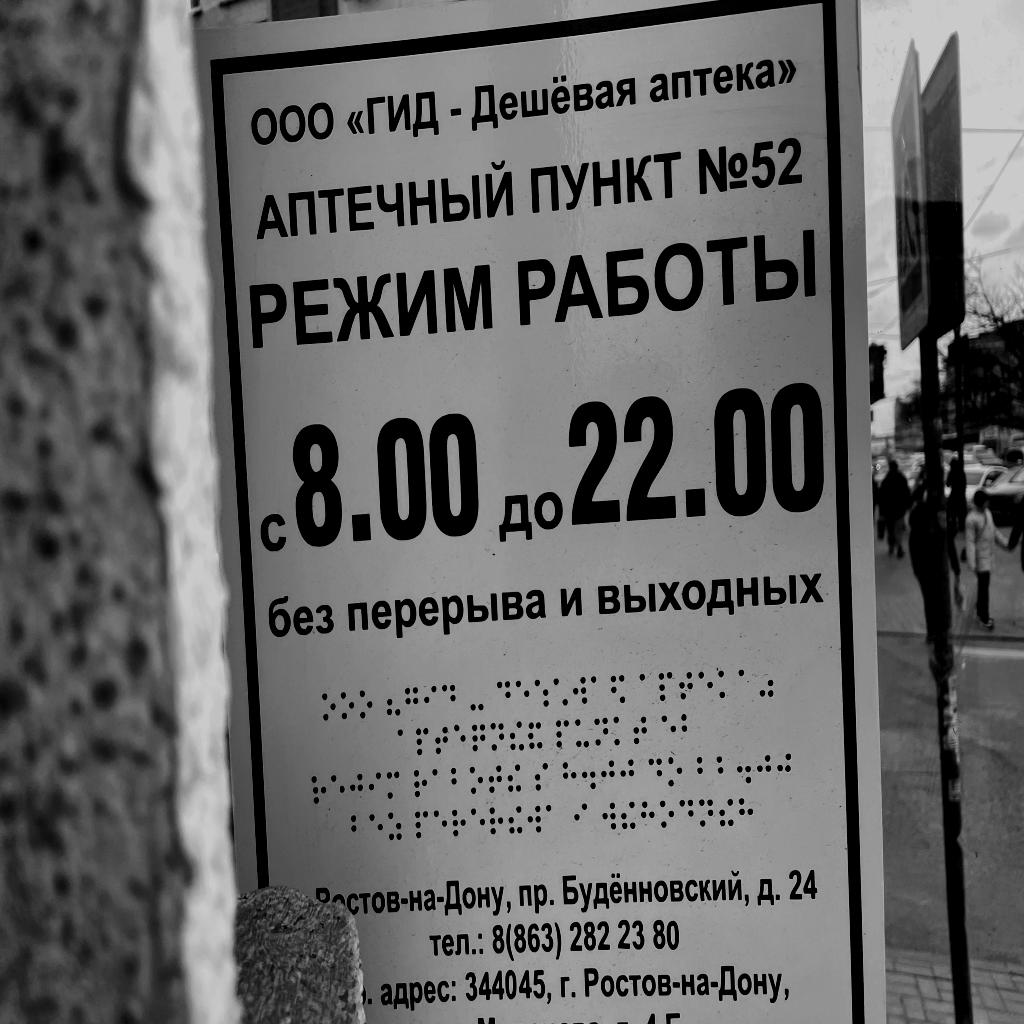_n: (594, 717, 609, 746), (490, 722, 504, 752), (699, 799, 713, 827)
_y: (574, 719, 590, 749)
a: (590, 675, 605, 703), (738, 668, 752, 698), (432, 768, 446, 797), (639, 673, 653, 701), (397, 728, 410, 755), (546, 804, 559, 831)
b: (350, 815, 365, 843), (451, 767, 465, 795)
ch: (471, 723, 486, 752)
d: (648, 757, 663, 787), (496, 679, 511, 708), (679, 799, 694, 828), (442, 683, 456, 713)
defis: (470, 683, 484, 711)
e: (470, 807, 486, 836), (698, 670, 713, 700), (433, 809, 448, 838), (331, 774, 345, 804), (515, 680, 530, 707), (369, 814, 383, 842), (454, 723, 466, 752)
g: (405, 686, 419, 715)
gh: (350, 773, 363, 802)
i: (423, 685, 437, 713), (369, 771, 382, 801), (574, 803, 587, 830)
iKratkoe: (528, 721, 543, 750)
ii: (510, 721, 525, 751), (508, 805, 523, 834), (621, 801, 636, 830), (719, 798, 734, 827), (508, 764, 522, 793)
k: (718, 670, 733, 699), (613, 716, 627, 746)
kavichki1: (386, 686, 401, 716)
kavichki2: (759, 667, 774, 698)
m: (387, 771, 400, 800)
o: (668, 757, 683, 787), (660, 800, 675, 829), (359, 690, 373, 719), (469, 766, 483, 795), (322, 693, 336, 721), (341, 692, 355, 720)
p: (658, 671, 673, 702), (414, 811, 429, 840), (556, 720, 570, 749), (416, 727, 429, 756)
r: (311, 775, 327, 804), (413, 769, 428, 798), (452, 809, 467, 838), (489, 807, 504, 835)
s: (535, 762, 549, 791)
sh: (534, 679, 549, 708)
t: (633, 716, 647, 746), (679, 671, 693, 700), (488, 765, 502, 794), (435, 726, 448, 755)
tochka: (736, 753, 752, 785), (582, 760, 596, 790)
v: (572, 676, 588, 705), (528, 805, 542, 833), (602, 802, 616, 830)
x: (739, 797, 754, 828), (641, 801, 655, 829)
ya: (610, 674, 626, 704)
yo: (553, 678, 568, 707)
z: (388, 811, 403, 841)
